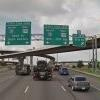Car: (63, 72, 91, 95)
